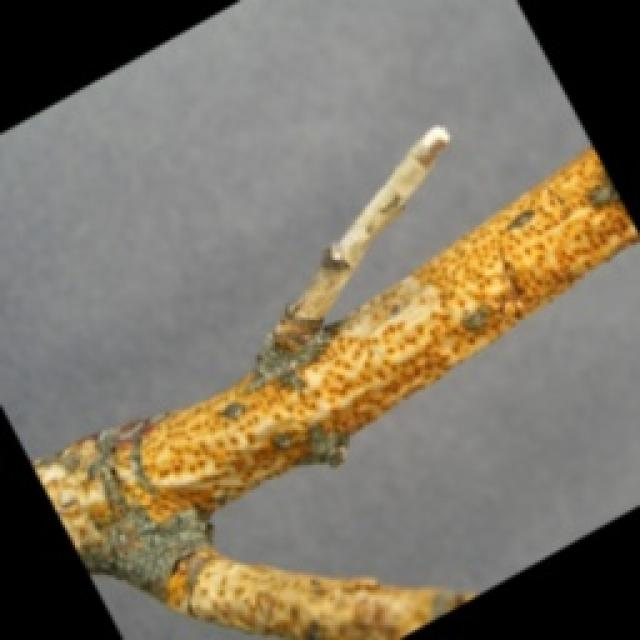Golden_canker: (9, 156, 631, 620)
